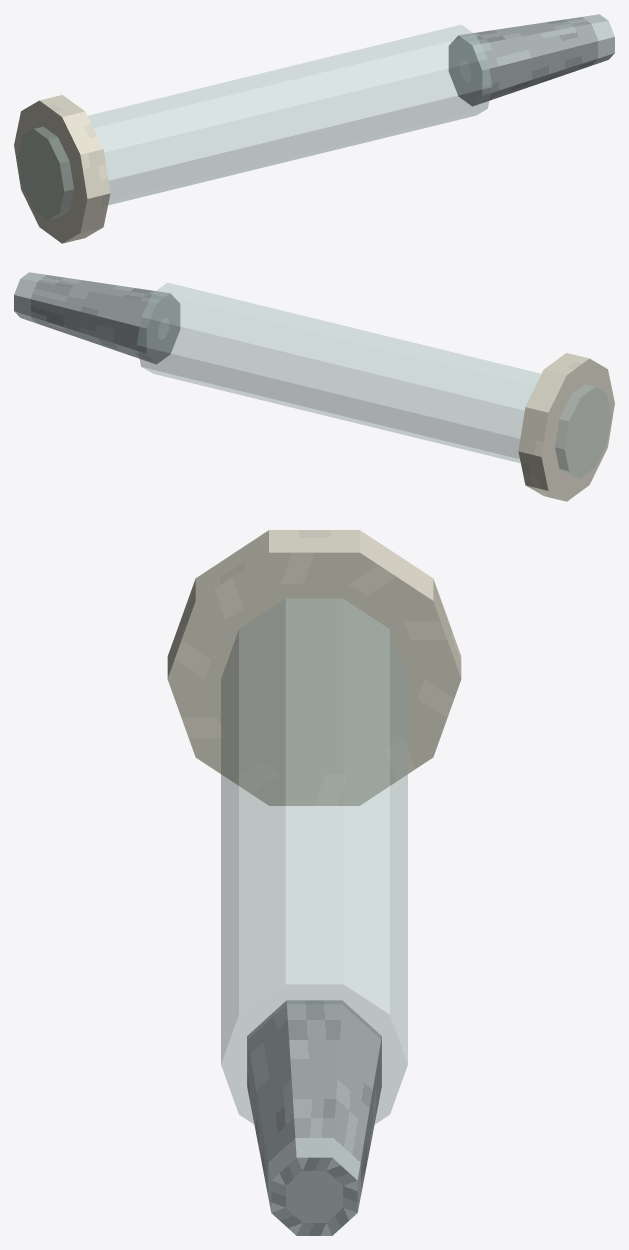
The model's file is syringe.glb.
The picture shows the model from 3 angles, top to bottom: view 1: azimuth 30°, elevation 25°; view 2: azimuth 150°, elevation 25°; view 3: azimuth 270°, elevation 25°; orthographic projection. The views are drawn at different scales.
Visible parts, largest first — view 1: block_main barrel, block_plunger, block_nozzle; view 2: block_main barrel, block_plunger, block_nozzle; view 3: block_main barrel, block_plunger, block_nozzle.
Boxes of the visible parts, <box> form: block_main barrel: <box>17,24,491,219</box>; block_plunger: <box>14,95,110,243</box>; block_nozzle: <box>448,14,614,106</box>; block_main barrel: <box>137,282,611,477</box>; block_plunger: <box>518,353,614,501</box>; block_nozzle: <box>14,272,180,364</box>; block_main barrel: <box>221,598,407,1123</box>; block_plunger: <box>167,530,461,805</box>; block_nozzle: <box>247,1000,381,1235</box>.
Bounding box in the file's own units: 0.1 × 0.0215 × 0.0226.
2 materials, 2 textured.
